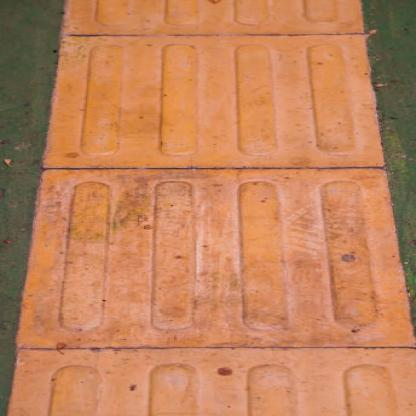podotacti: (17, 0, 410, 414)
